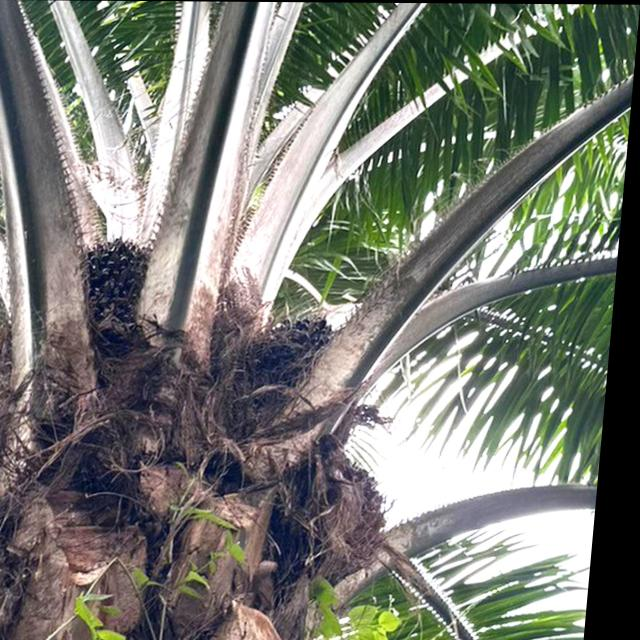unripe: (66, 231, 171, 342), (240, 308, 354, 407)
